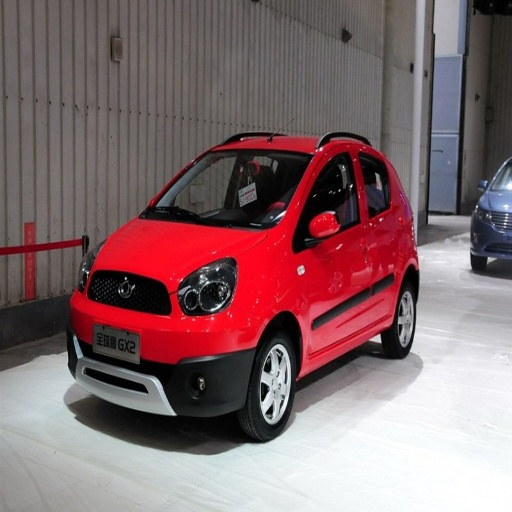front_bumper: (72, 271, 261, 416)
front_glass: (140, 149, 311, 227)
front_left_door: (299, 140, 367, 355)
